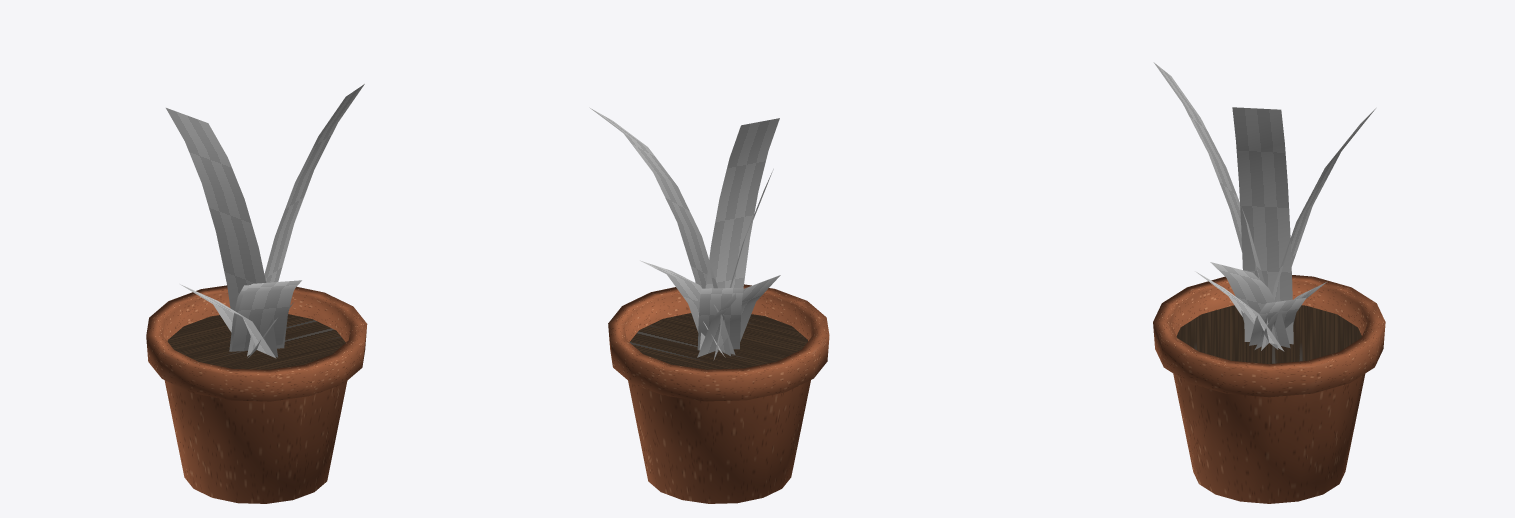
The model's file is pottedPlant.glb.
3 views of the same model, side by side, from view 1: azimuth 30°, elevation 25°; view 2: azimuth 150°, elevation 25°; view 3: azimuth 270°, elevation 25° (orthographic). The views are drawn at different scales.
Visible parts, largest first — view 1: pottedPlant, dyn_color_tint; view 2: pottedPlant, dyn_color_tint; view 3: pottedPlant, dyn_color_tint.
Boxes of the visible parts, x1,y1,x2,y2 form: pottedPlant: (146, 285, 367, 503); dyn_color_tint: (166, 84, 364, 358); pottedPlant: (608, 284, 829, 503); dyn_color_tint: (589, 107, 780, 360); pottedPlant: (1153, 275, 1385, 503); dyn_color_tint: (1153, 62, 1375, 351).
Bounding box in the file's own units: 0.9085 × 0.8557 × 0.8528.
Materials: 3 (3 with a texture image).
